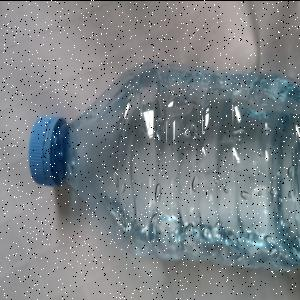Plastic-bottle: (28, 58, 300, 273)
